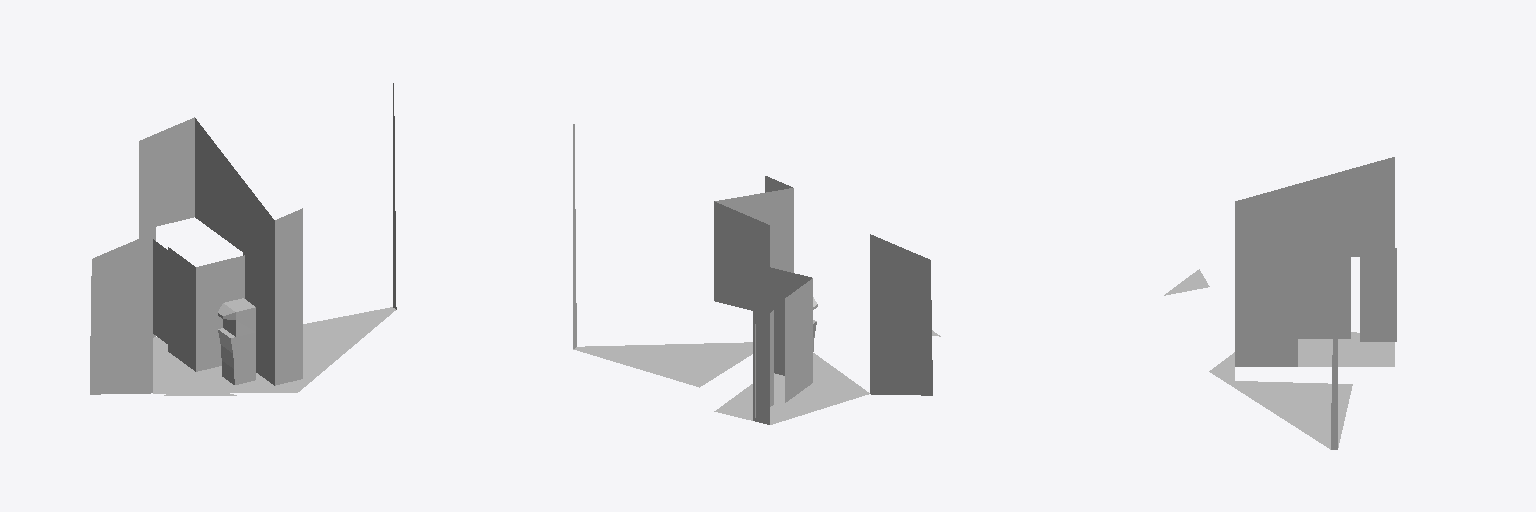
The model's file is vending.obj.
The picture shows the model from 3 angles: view 1: azimuth 30°, elevation 25°; view 2: azimuth 150°, elevation 25°; view 3: azimuth 270°, elevation 25°; orthographic projection.
Parts seen in each view (by area): view 1: Plane; view 2: Plane; view 3: Plane.
Boxes of the visible parts, <box> form: Plane: <box>90,83,396,395</box>; Plane: <box>573,124,940,424</box>; Plane: <box>1164,157,1396,449</box>.
Bounding box in the file's own units: 13.1 × 8.51 × 8.02.